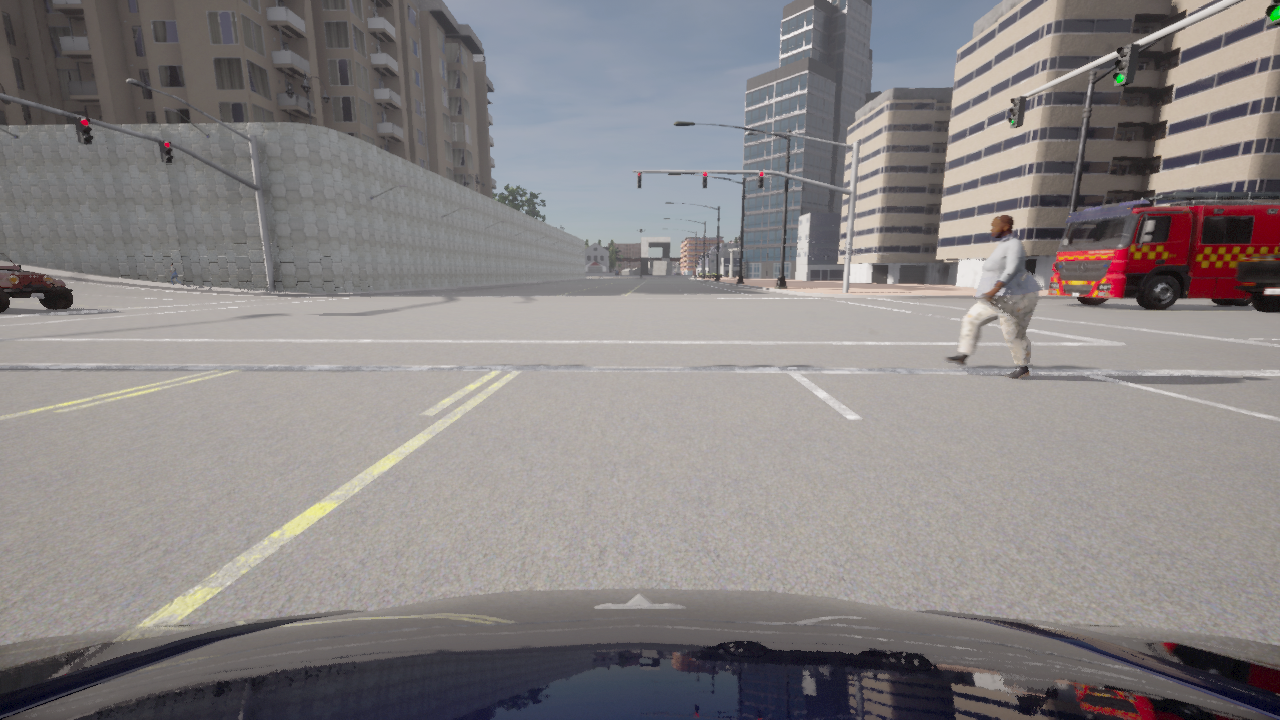cyclist: (0, 588, 1279, 719), (1048, 192, 1279, 309), (1234, 253, 1279, 312), (674, 272, 675, 274)
pedestrian: (943, 213, 1042, 378), (170, 262, 183, 285)
